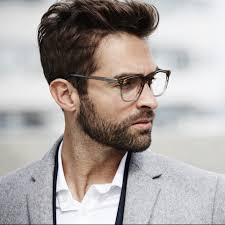b.y: (113, 111, 155, 152)
